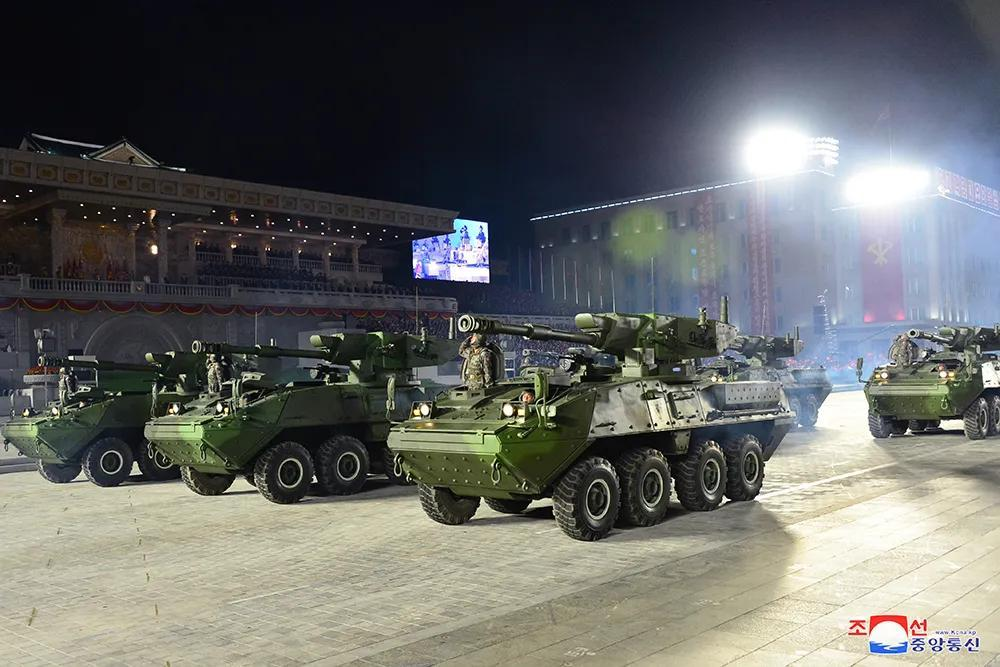MIL_IFV: (392, 293, 803, 544), (145, 333, 463, 503), (4, 343, 186, 492), (864, 318, 1000, 442)
